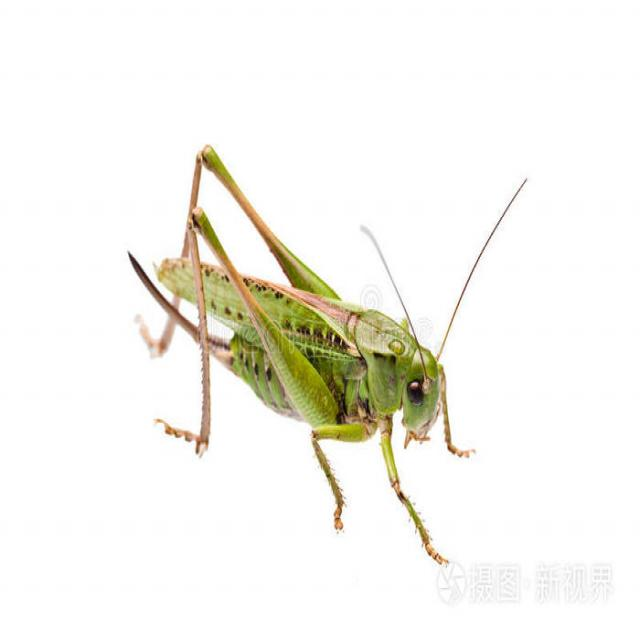ZhaMeng: (128, 96, 489, 594)
